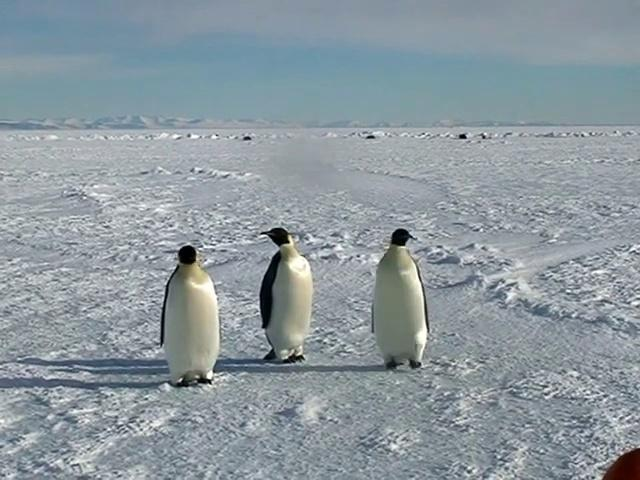animal: (372, 230, 429, 370)
